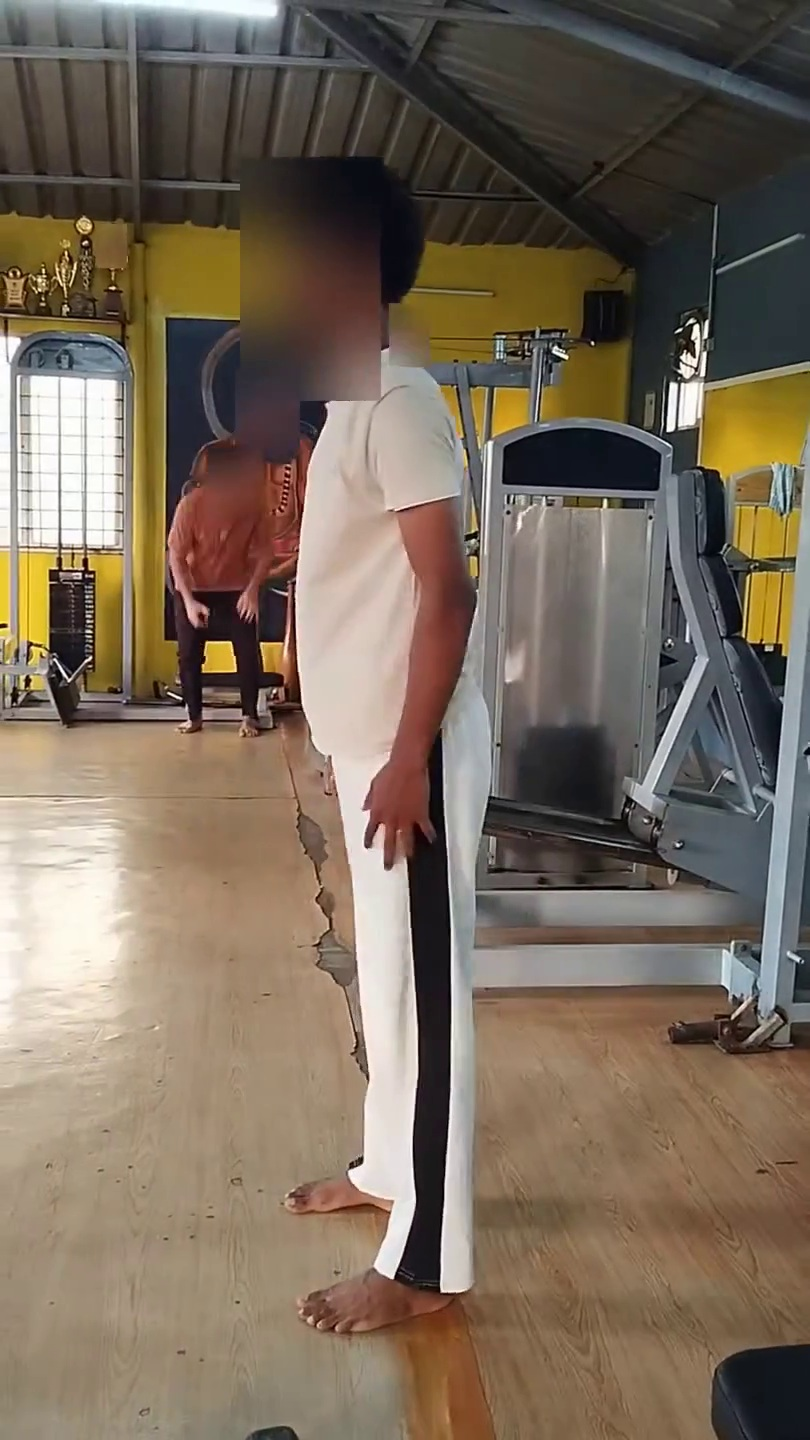squat_correct: (173, 163, 547, 1412)
